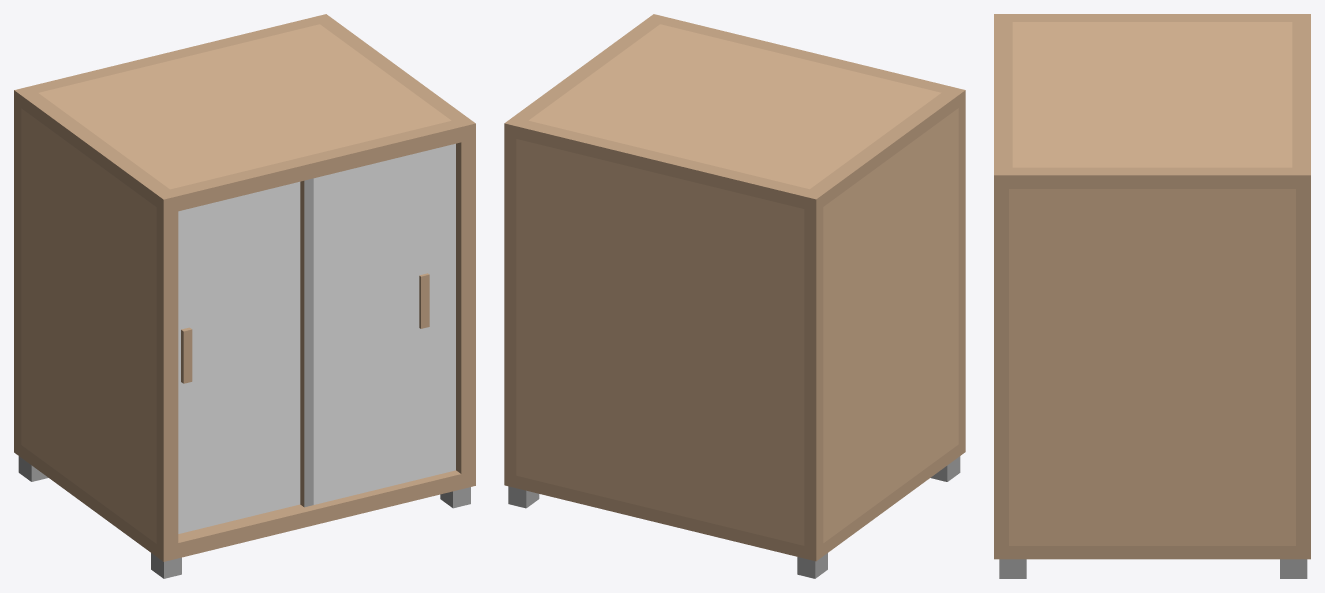
The model's file is pedestal.fbx.
3 renders of one model, left to right at view 1: azimuth 30°, elevation 25°; view 2: azimuth 150°, elevation 25°; view 3: azimuth 270°, elevation 25°, orthographic. The views are drawn at different scales.
Parts seen in each view (by area): view 1: Cube_1; view 2: Cube_1; view 3: Cube_1.
Part boxes in pixels (left/top/right/bottom): Cube_1: left=14, top=14, right=475, bottom=578; Cube_1: left=504, top=14, right=965, bottom=578; Cube_1: left=994, top=14, right=1310, bottom=578.
Size of the model in its own units: 19.41 by 22.69 by 16.11.
